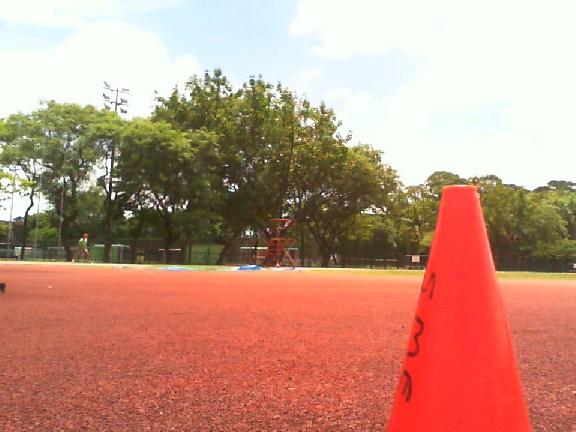0 cone: (387, 185, 532, 432)
